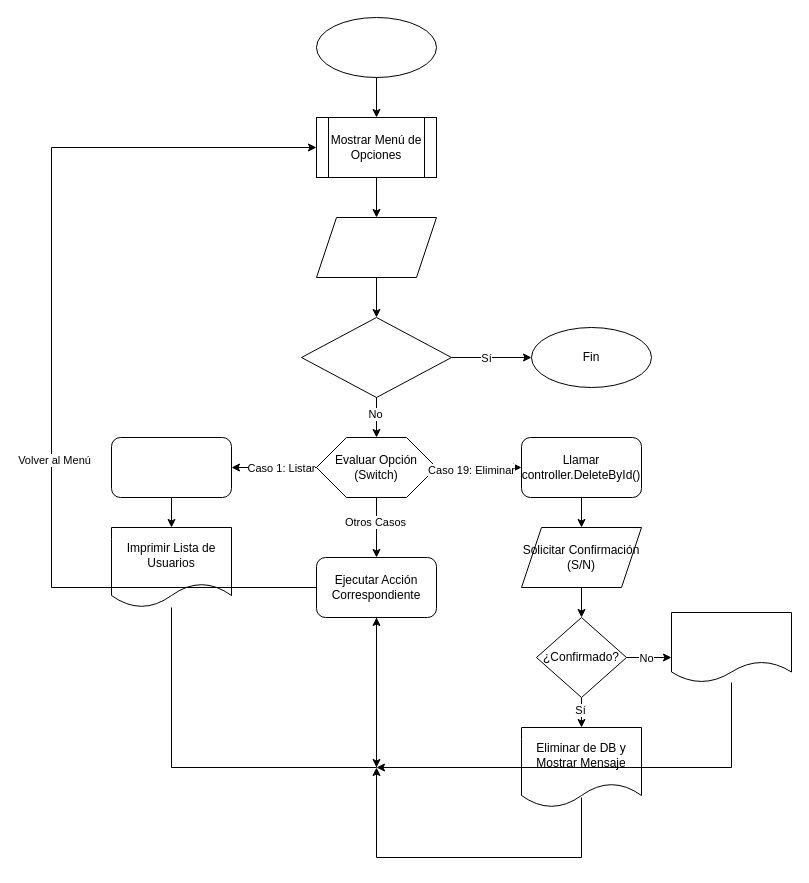
The diagram is 809 pixels wide and 883 high, and some of its shapes have lost their labels. Here are the shapes that lost their labels. From the top down, the centre of each, then its label:
point (376, 47): Inicio
point (376, 247): Leer Opción del Usuario
point (376, 357): ¿Opción es "0" o "salir"?
point (171, 467): Llamar controller.Index()
point (731, 647): Mostrar "Cancelado"
